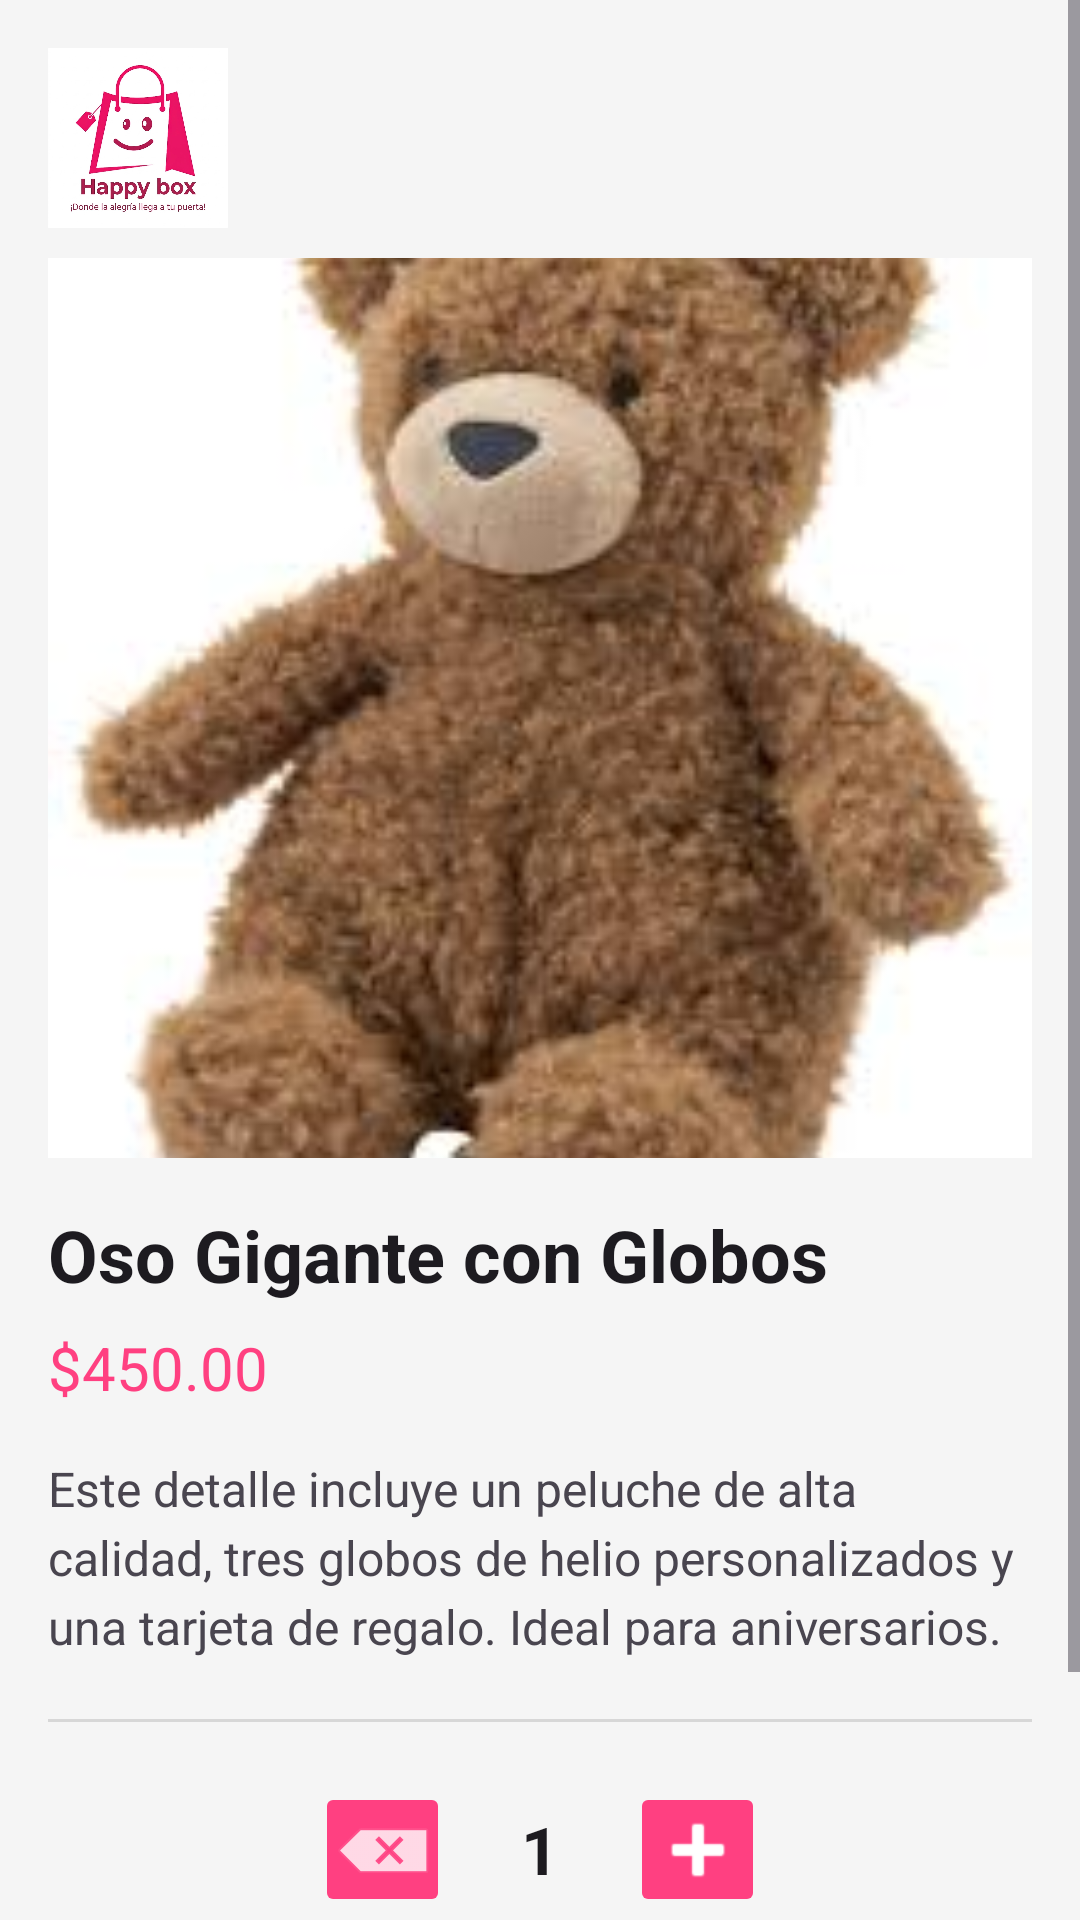

Screen size 1080 × 1920. Icon name, then its box in pixels as [x1,y1,x2,y2]:
add: [642,1800,753,1899]
delete: [327,1800,438,1899]
